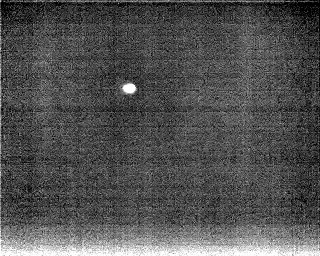AIRPLANE: (120, 80, 139, 98)
